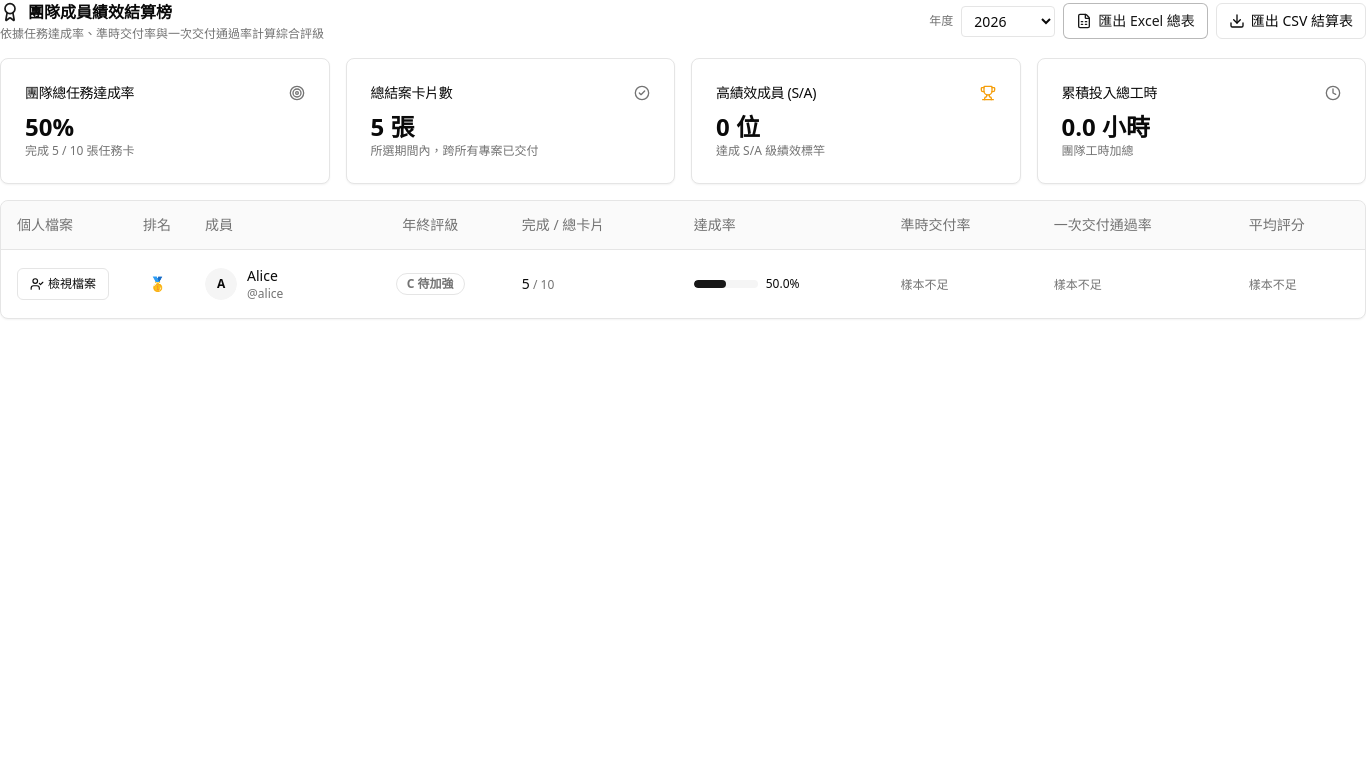
it: TeamReportTab dossier › 調整項套用但沒有平均分時，句子省略平均分而不是留下空的括號子句
Click the button "檢視檔案" at (63,284), box [17,268,109,300]
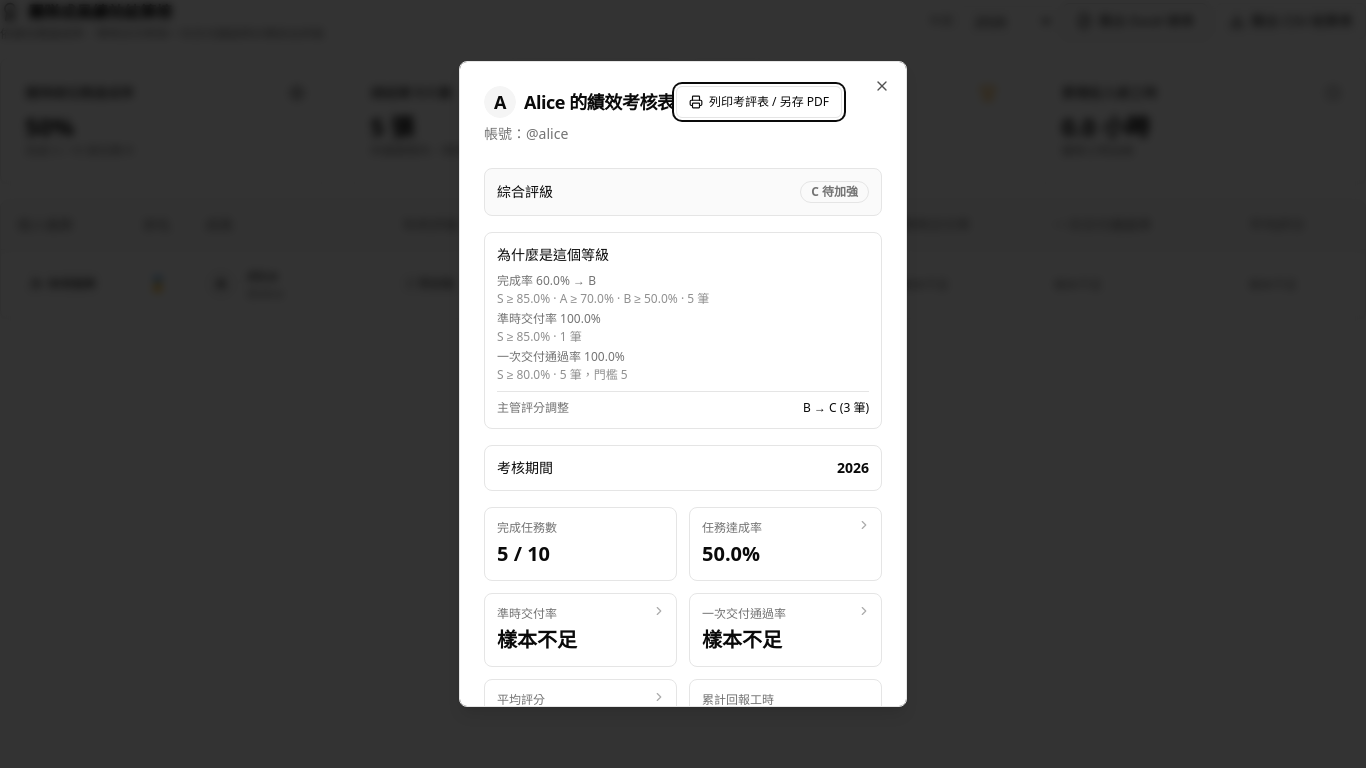
Expected: the element with test id "rating-explanation" does not show "平均分 ，", [484,232,882,429]
Expected: the element with test id "rating-explanation" shows "B → C (3 筆)", [803,399,869,416]
